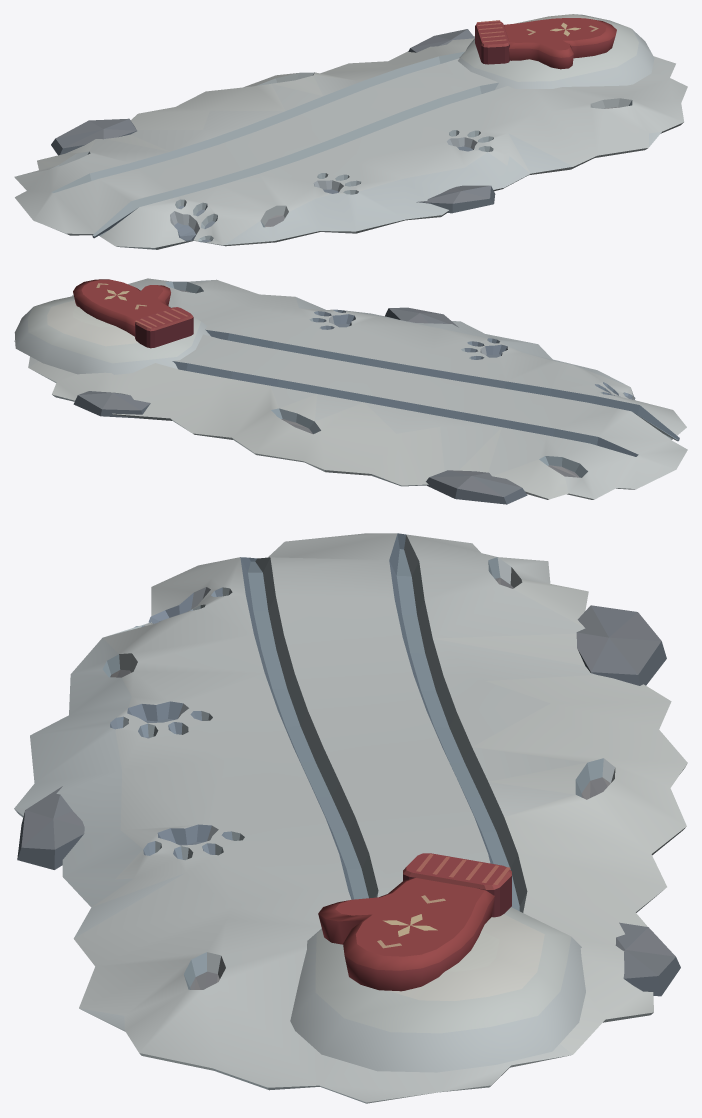
File: lotte_sledge_clue_2.glb
3 renders of one model, top to bottom at view 1: azimuth 30°, elevation 25°; view 2: azimuth 150°, elevation 25°; view 3: azimuth 270°, elevation 25°, orthographic. The views are drawn at different scales.
Parts seen in each view (by area): view 1: lotte_sledge_clue_2; view 2: lotte_sledge_clue_2; view 3: lotte_sledge_clue_2.
Boxes of the visible parts, box(x1,y1,x2,y2) form: lotte_sledge_clue_2: box(14, 14, 687, 249); lotte_sledge_clue_2: box(14, 278, 687, 504); lotte_sledge_clue_2: box(14, 533, 687, 1103).
Size of the model in its own units: 1 by 0.08 by 0.5.
